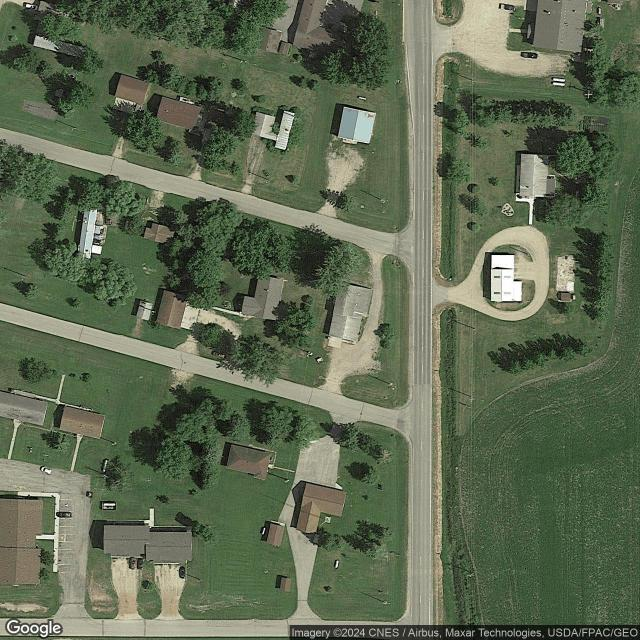Propane: (100, 458, 109, 474), (551, 81, 566, 87), (259, 526, 267, 536), (333, 559, 340, 569), (356, 95, 367, 101), (102, 502, 116, 506), (553, 78, 566, 82), (597, 7, 601, 15)
